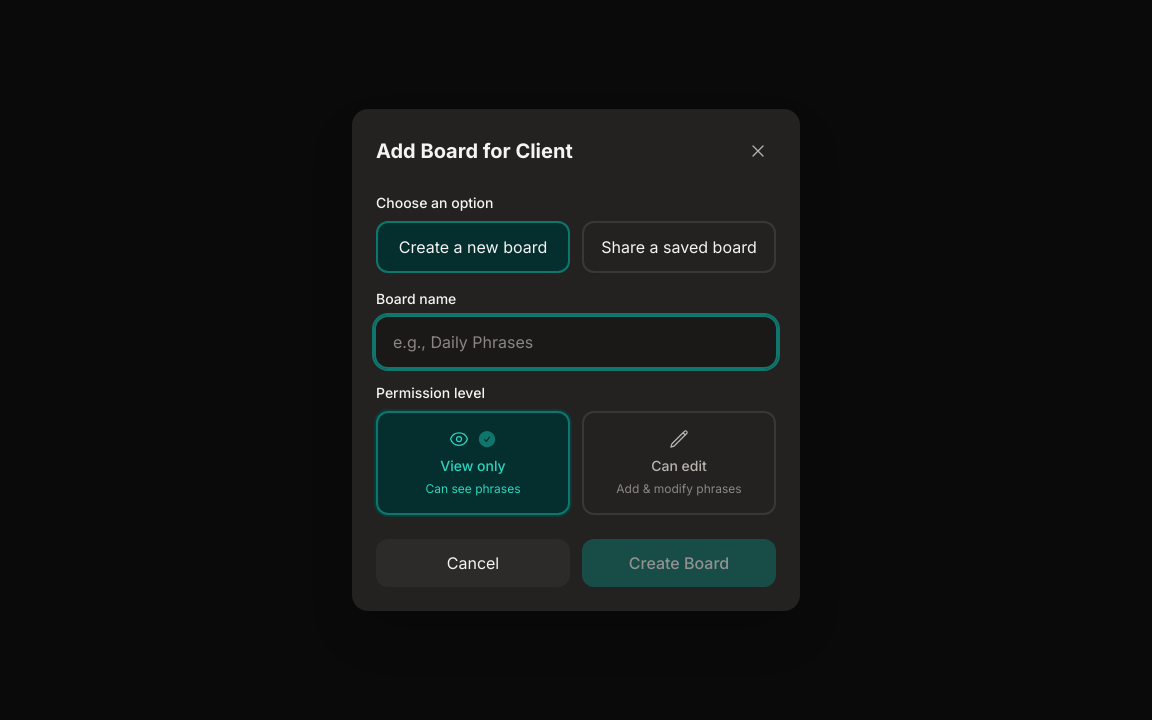
it: CreateBoardModal › shows error message on creation failure
Type "New Board" into the field labelled "Board name" at [576, 342], box [376,317,776,367]
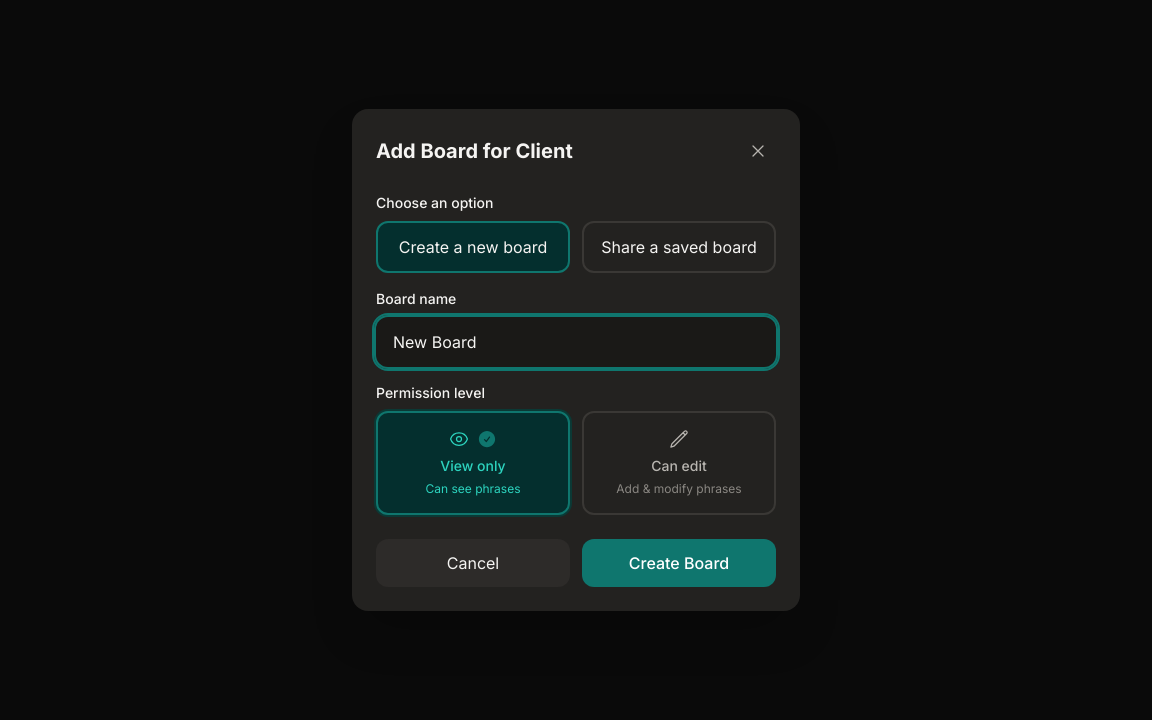
Click the button "Create Board" at [679, 563], box [582,539,776,587]
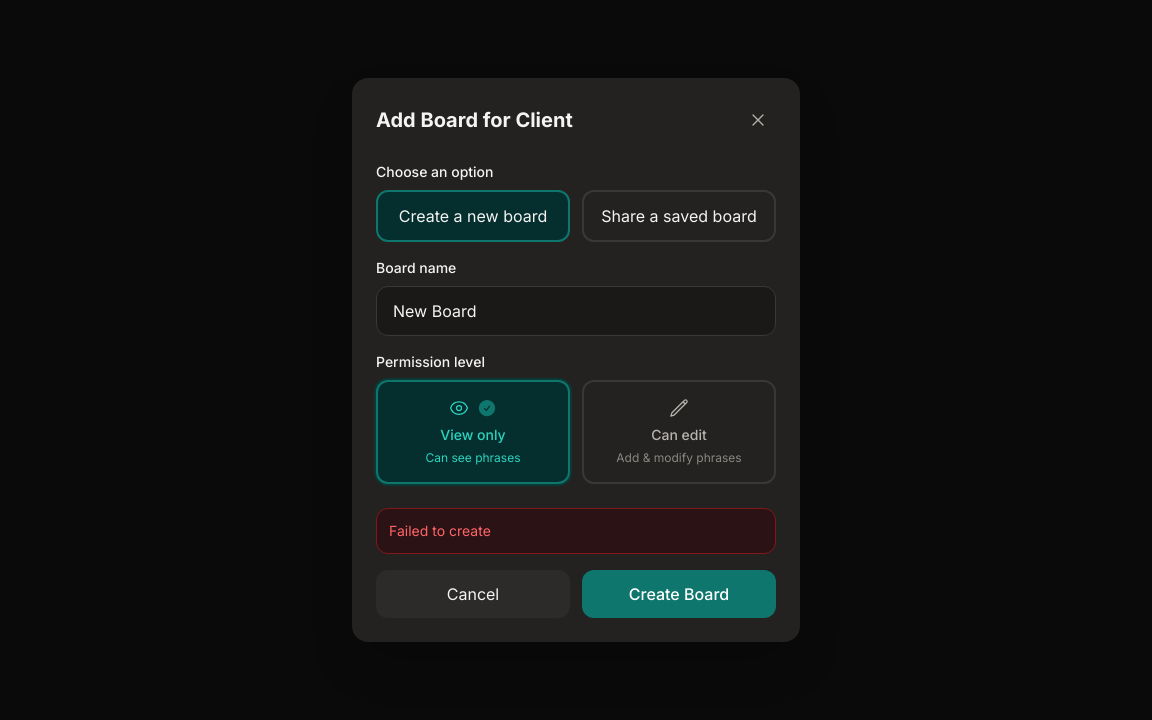
Expected: the text "Failed to create" is shown, [376,508,776,554]
